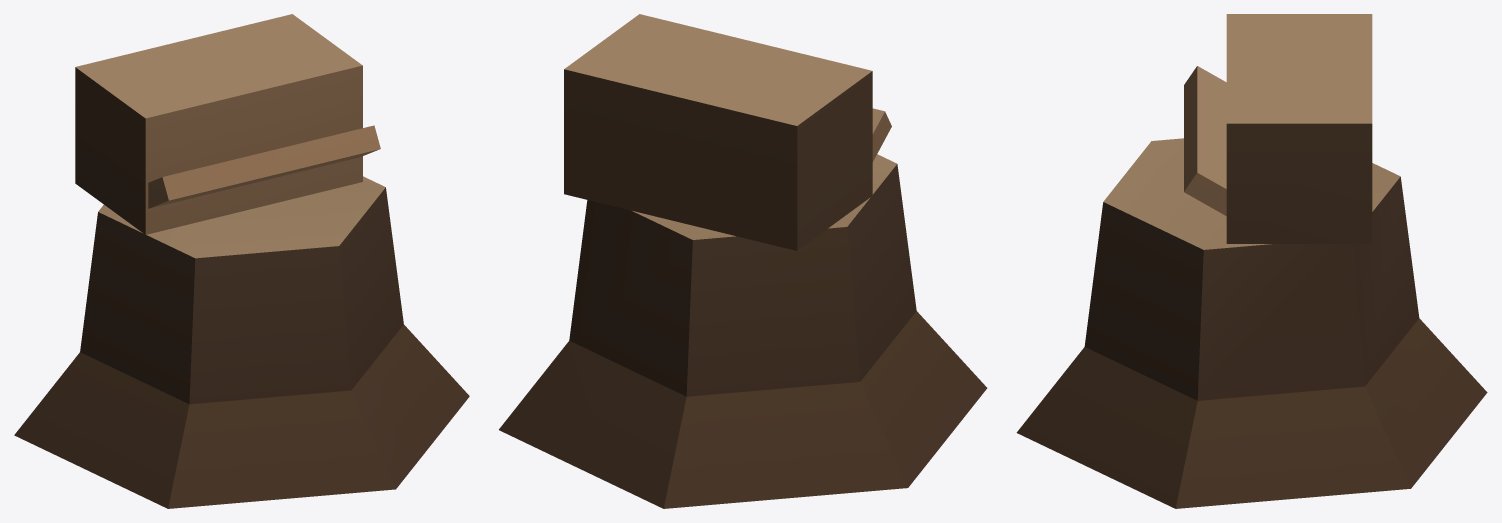
The model's file is custom-toco-cortado.glb.
3 views of the same model, side by side, from view 1: azimuth 30°, elevation 25°; view 2: azimuth 150°, elevation 25°; view 3: azimuth 270°, elevation 25° (orthographic). The views are drawn at different scales.
Parts seen in each view (by area): view 1: toco-cortado; view 2: toco-cortado; view 3: toco-cortado.
Boxes of the visible parts, <box> form: toco-cortado: <box>14,14,469,508</box>; toco-cortado: <box>499,14,987,508</box>; toco-cortado: <box>1016,14,1487,508</box>.
Size of the model in its own units: 1.44 by 1.2 by 1.49.
